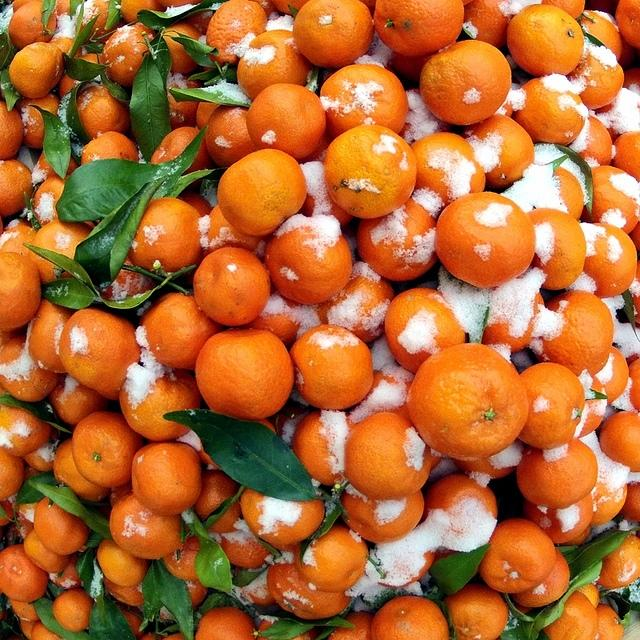orange: (408, 343, 530, 461), (434, 192, 536, 288), (194, 329, 294, 422), (325, 125, 417, 219), (217, 149, 307, 237), (342, 412, 432, 500), (419, 40, 512, 125), (60, 308, 142, 400), (289, 324, 374, 410), (384, 288, 466, 374), (356, 197, 438, 282), (264, 227, 352, 306), (535, 290, 614, 377), (138, 293, 223, 372), (316, 260, 395, 344), (320, 64, 408, 138), (246, 82, 327, 160), (194, 246, 272, 326), (410, 132, 486, 213), (422, 474, 498, 553), (120, 369, 202, 442), (517, 362, 585, 450), (516, 438, 598, 509), (480, 518, 556, 593), (72, 411, 146, 488), (461, 114, 535, 190), (506, 4, 584, 76), (292, 1, 374, 69), (129, 197, 202, 273), (237, 29, 314, 101), (109, 490, 188, 560), (374, 0, 465, 58), (132, 442, 202, 516), (340, 484, 424, 544), (526, 208, 586, 290), (514, 78, 586, 146), (294, 526, 368, 592), (292, 410, 356, 486), (240, 489, 324, 546), (267, 563, 351, 620), (203, 1, 267, 72), (202, 204, 274, 264), (27, 220, 94, 283), (584, 222, 638, 298), (0, 335, 60, 403), (198, 419, 276, 471), (580, 166, 639, 234), (350, 367, 416, 425), (482, 292, 544, 353), (28, 299, 79, 373), (52, 437, 110, 502), (510, 546, 570, 608), (444, 583, 508, 640), (102, 21, 157, 87), (370, 595, 450, 640), (524, 493, 594, 544), (204, 105, 258, 168), (580, 10, 636, 69), (76, 80, 131, 140), (33, 497, 89, 555), (566, 54, 624, 110), (0, 252, 40, 332), (398, 88, 452, 146), (9, 42, 63, 98), (0, 544, 49, 603), (542, 590, 598, 640), (1, 404, 52, 456), (15, 92, 60, 150), (97, 538, 149, 587), (192, 470, 240, 523), (50, 381, 107, 425), (234, 314, 300, 352), (8, 1, 57, 51), (600, 411, 640, 472), (597, 532, 640, 588), (590, 346, 629, 406), (264, 400, 310, 450), (59, 54, 106, 100), (24, 530, 72, 574), (195, 607, 259, 640), (592, 100, 639, 144), (464, 1, 508, 48), (0, 159, 34, 219), (80, 132, 140, 166), (78, 0, 124, 44), (164, 22, 202, 75), (167, 72, 200, 131), (52, 588, 94, 632), (576, 115, 612, 166), (101, 268, 156, 301), (150, 127, 200, 163), (552, 166, 584, 222), (162, 535, 200, 581), (589, 484, 629, 526), (220, 536, 272, 568), (109, 594, 145, 640), (33, 177, 65, 225), (449, 458, 516, 480), (390, 52, 436, 84), (611, 130, 639, 182), (0, 102, 24, 160), (257, 618, 319, 640), (296, 130, 335, 164), (0, 447, 25, 500), (327, 612, 374, 640), (104, 575, 144, 607), (22, 438, 59, 472), (48, 554, 82, 590), (615, 1, 639, 48), (1, 225, 37, 255), (120, 0, 166, 23), (595, 603, 624, 639), (177, 193, 214, 217), (617, 483, 639, 522), (19, 498, 44, 532), (542, 0, 586, 19), (195, 102, 221, 131), (576, 582, 600, 610), (186, 580, 208, 610), (628, 358, 640, 412), (31, 620, 63, 640), (110, 481, 132, 509), (271, 0, 310, 15), (623, 68, 640, 96), (157, 0, 203, 10), (21, 620, 38, 640), (12, 0, 32, 13), (496, 104, 514, 118), (162, 632, 185, 640)
